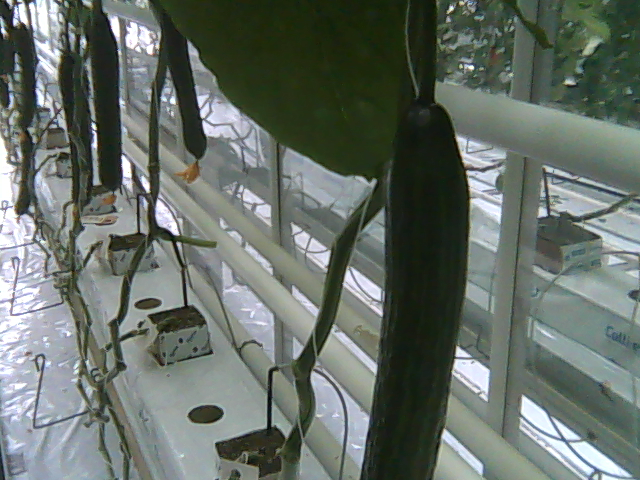concombre: (354, 89, 475, 480), (158, 11, 214, 186), (82, 6, 124, 208)
